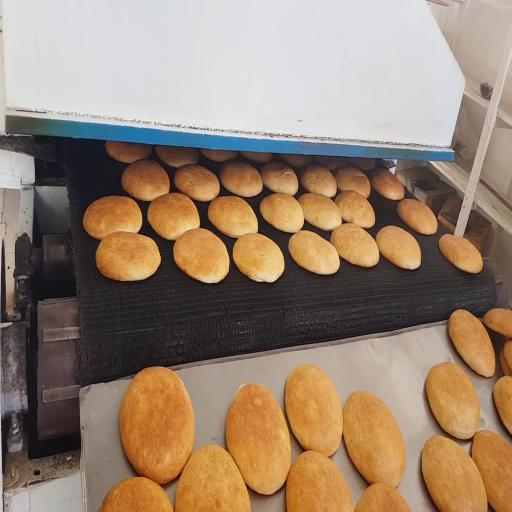bread: (119, 367, 194, 484), (226, 384, 291, 494), (343, 391, 405, 486), (285, 364, 343, 456), (175, 445, 250, 511), (422, 436, 487, 511), (426, 362, 480, 439), (286, 451, 353, 511), (96, 232, 161, 281), (472, 431, 511, 511), (448, 310, 495, 376), (174, 228, 229, 283), (83, 196, 142, 239), (233, 233, 284, 282), (99, 477, 172, 511), (148, 193, 199, 240), (289, 230, 339, 274), (331, 223, 379, 267), (208, 196, 258, 237), (122, 160, 170, 201), (376, 226, 421, 269), (439, 234, 483, 274), (260, 193, 304, 232), (298, 193, 342, 231), (174, 165, 219, 201), (355, 483, 410, 511), (335, 190, 375, 228), (220, 162, 262, 197), (397, 199, 437, 235), (261, 162, 298, 195), (300, 164, 337, 197), (335, 167, 370, 198), (371, 169, 404, 200), (106, 142, 151, 164), (494, 376, 511, 433), (156, 146, 198, 168), (484, 309, 511, 338), (314, 156, 347, 171), (200, 149, 237, 162), (280, 154, 312, 167), (241, 152, 273, 163), (349, 158, 375, 170), (500, 348, 511, 376), (503, 339, 511, 369)
